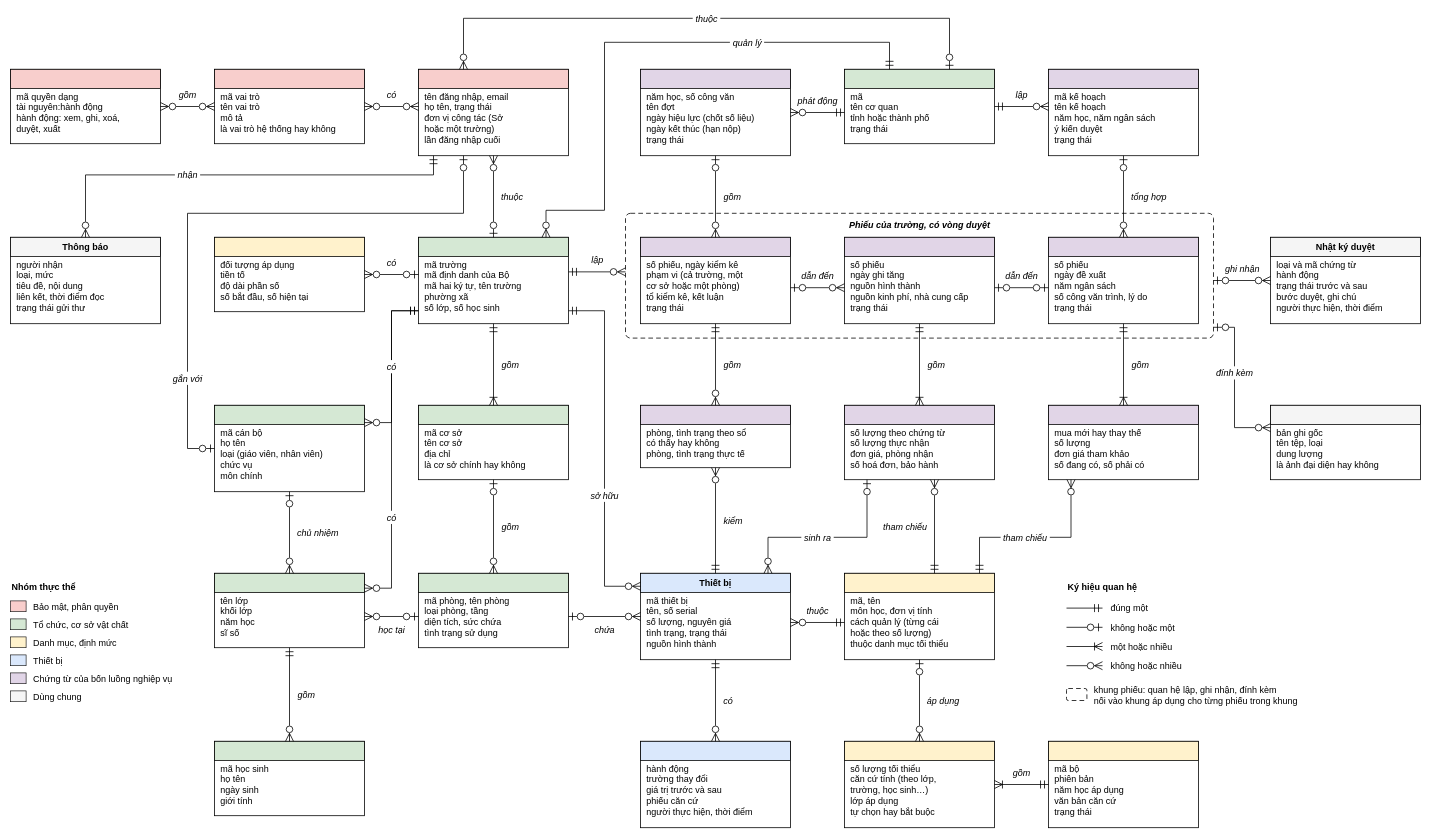
Some shapes in this 1432 by 839 pixel diagram are drawn without their labels. The shapes that lost their labels are listed below. From the top down, each one's centre as x and y in pixels, then its label:
point 85,79: Quyền
point 289,79: Vai trò
point 493,79: Người dùng
point 715,79: Đợt kiểm kê
point 919,79: Sở GD&ĐT
point 1123,79: Kế hoạch mua sắm
point 289,247: Quy tắc sinh mã
point 493,247: Trường học
point 715,247: Phiếu kiểm kê
point 919,247: Phiếu ghi tăng
point 1123,247: Đề xuất mua sắm
point 289,415: Cán bộ
point 493,415: Cơ sở
point 715,415: Dòng kiểm kê
point 919,415: Dòng phiếu ghi tăng
point 1123,415: Dòng đề xuất
point 1345,415: Tệp đính kèm
point 289,583: Lớp học
point 493,583: Phòng
point 919,583: Danh mục thiết bị
point 289,751: Học sinh
point 715,751: Lịch sử thiết bị
point 919,751: Định mức thiết bị
point 1123,751: Bộ tiêu chuẩn tối thiểu
